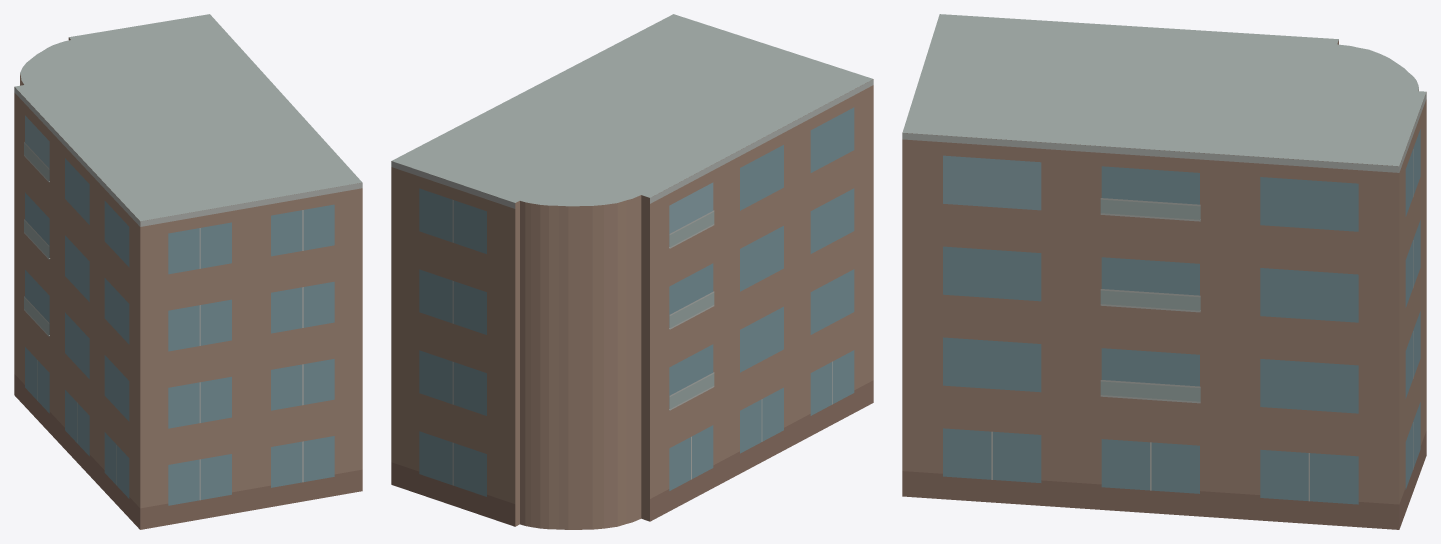
Rendered from survey-upis-32980010.glb.
3 views of the same model, side by side, from view 1: azimuth 30°, elevation 25°; view 2: azimuth 150°, elevation 25°; view 3: azimuth 270°, elevation 25° (orthographic). The views are drawn at different scales.
Visible parts, largest first — view 1: survey-upis-32980010.tmp; view 2: survey-upis-32980010.tmp; view 3: survey-upis-32980010.tmp.
Boxes of the visible parts, box(x1,y1,x2,y2) form: survey-upis-32980010.tmp: box(14, 14, 362, 529); survey-upis-32980010.tmp: box(391, 14, 873, 529); survey-upis-32980010.tmp: box(902, 14, 1426, 529).
Size of the model in its own units: 11.86 by 13.2 by 17.25.
